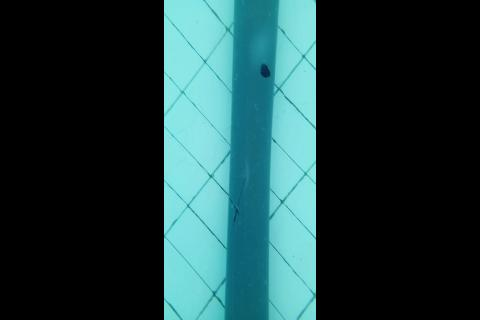kebocoran: (259, 62, 272, 80)
keretakan: (229, 184, 242, 222)
